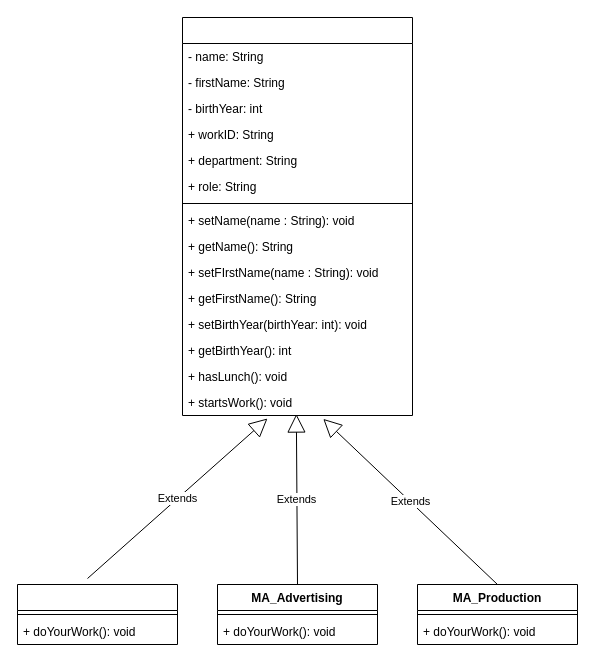
Some shapes in this 595 by 665 pixel diagram are drawn without their labels. Each missing label, with the box of its shape:
MA_Accounting: (16, 584, 178, 644)
Mitarbeiter: (182, 16, 412, 416)
